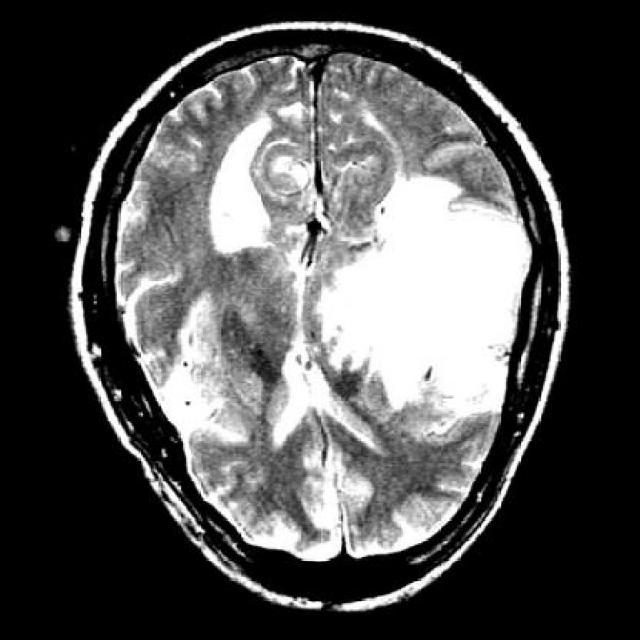Brain-Tumor: (316, 170, 539, 446)
